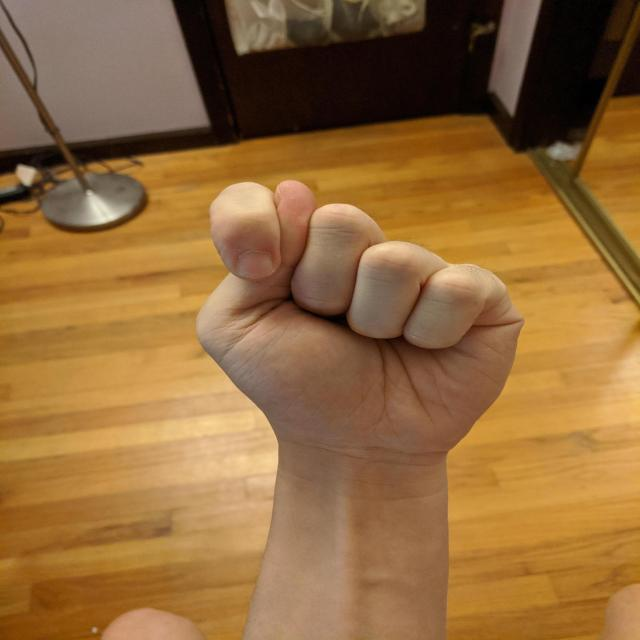T: (183, 173, 530, 469)
